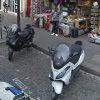Motorcycle: (41, 37, 92, 100)
